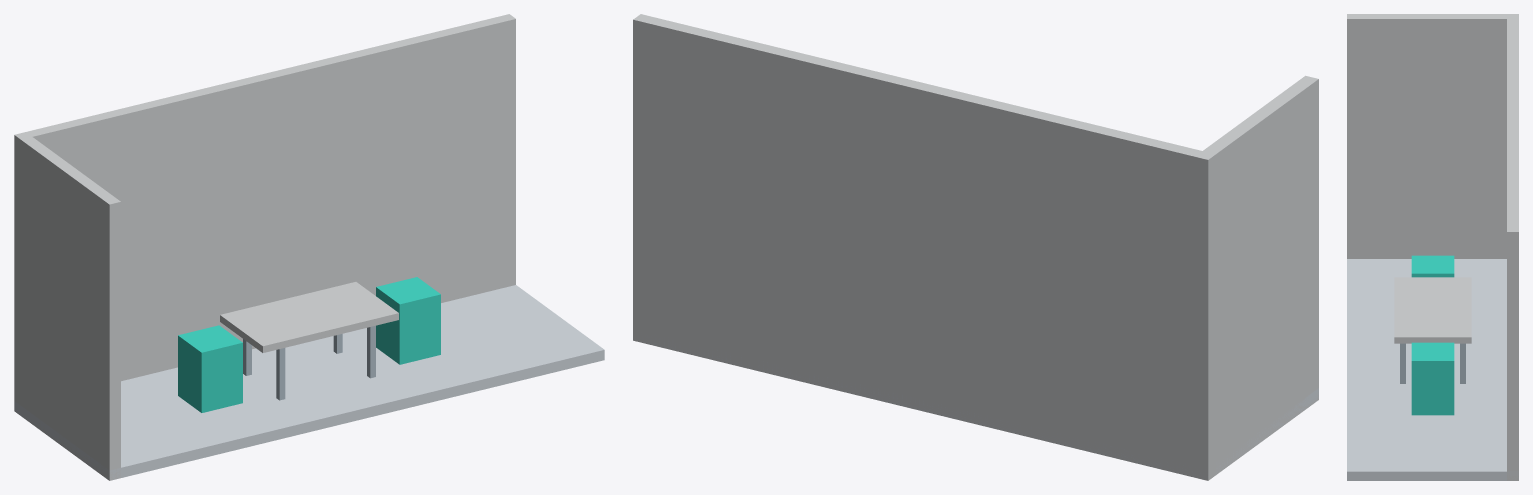
The picture shows the model from 3 angles, left to right: view 1: azimuth 30°, elevation 25°; view 2: azimuth 150°, elevation 25°; view 3: azimuth 270°, elevation 25°; orthographic projection. The views are drawn at different scales.
Parts seen in each view (by area): view 1: Exhibition Booth Concept; view 2: Exhibition Booth Concept; view 3: Exhibition Booth Concept.
Part boxes in pixels (x1,y1,x2,y2): Exhibition Booth Concept: [14, 14, 604, 480]; Exhibition Booth Concept: [633, 14, 1318, 480]; Exhibition Booth Concept: [1347, 14, 1518, 480].
Bounding box in the file's own units: 6 × 3.2 × 2.
